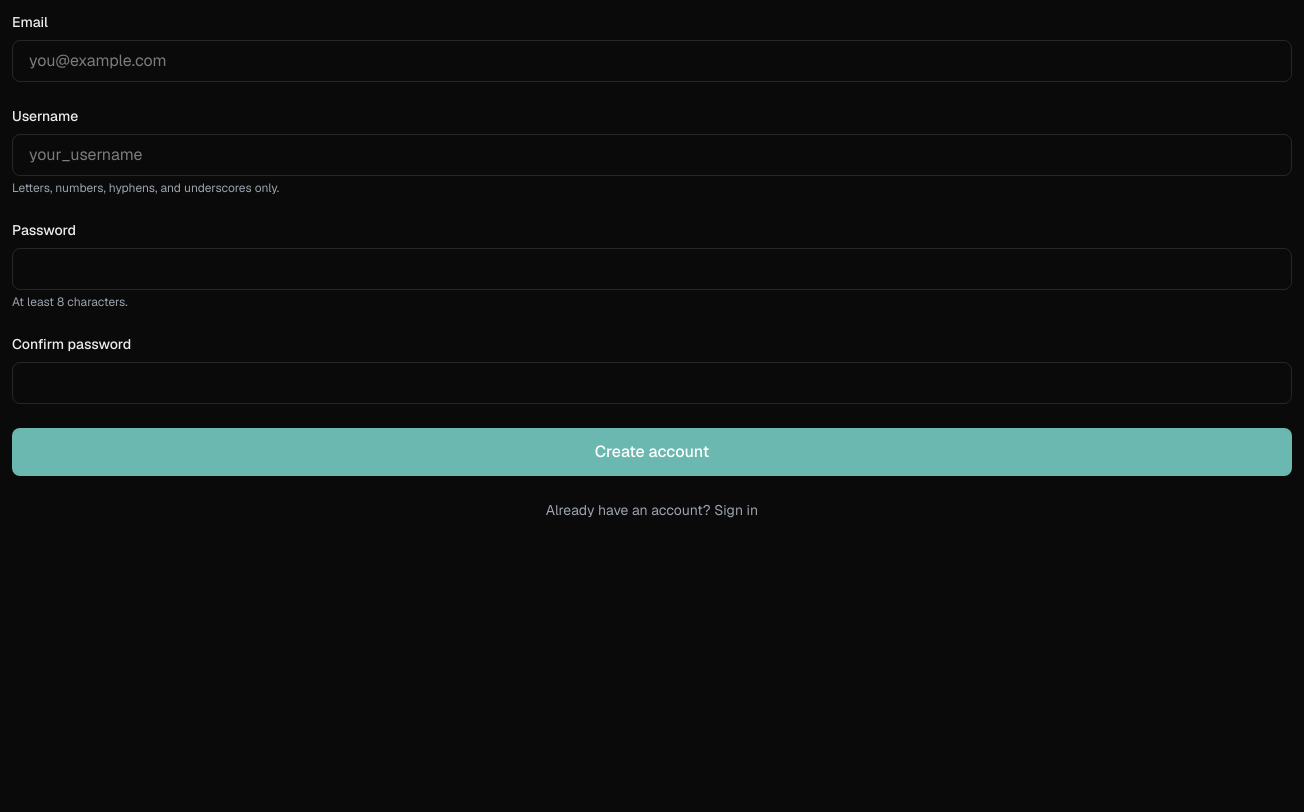
Test case: RegisterForm › shows error on failed registration
The image size is (1304, 812).
Type "test@example.com" into the field labelled "Email". click: (652, 61)
box: [12, 40, 1292, 82]
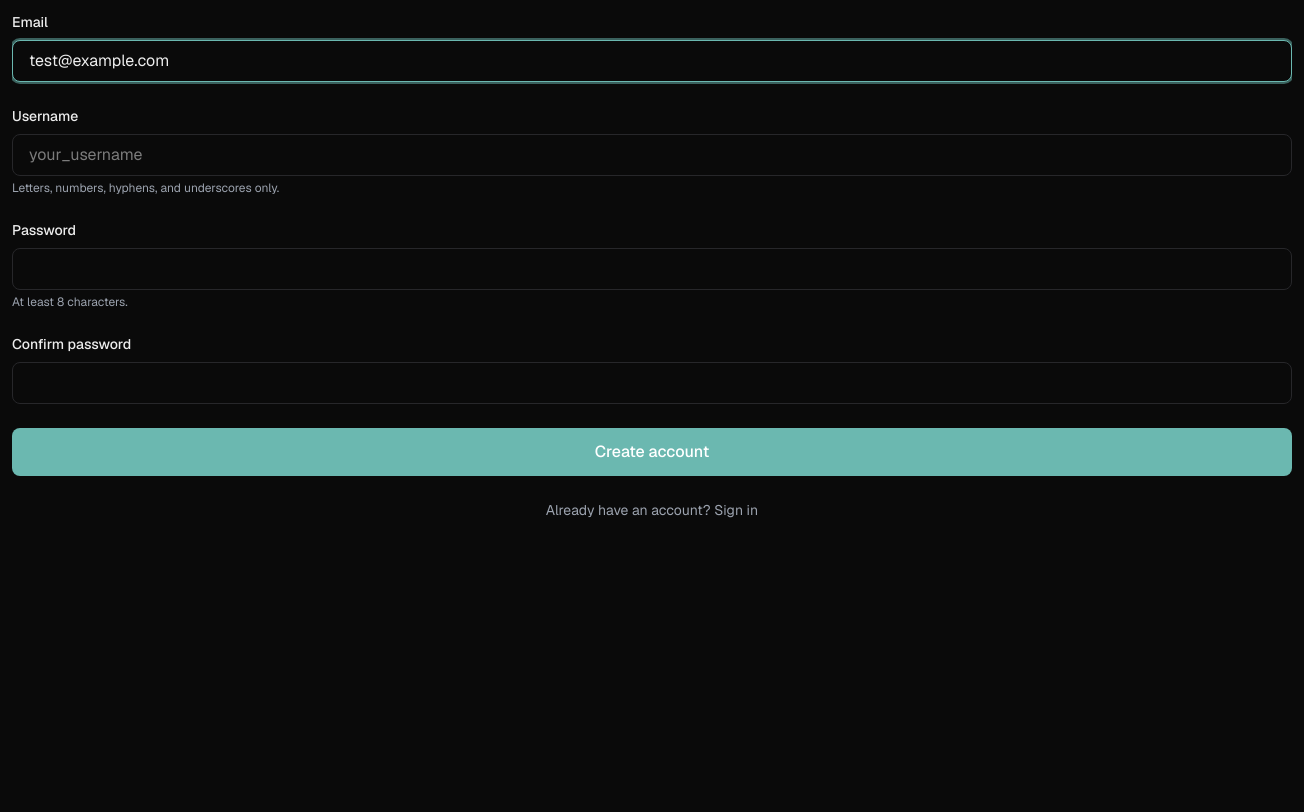
Type "testuser" into the field labelled "Username". click: (652, 155)
box: [12, 134, 1292, 176]
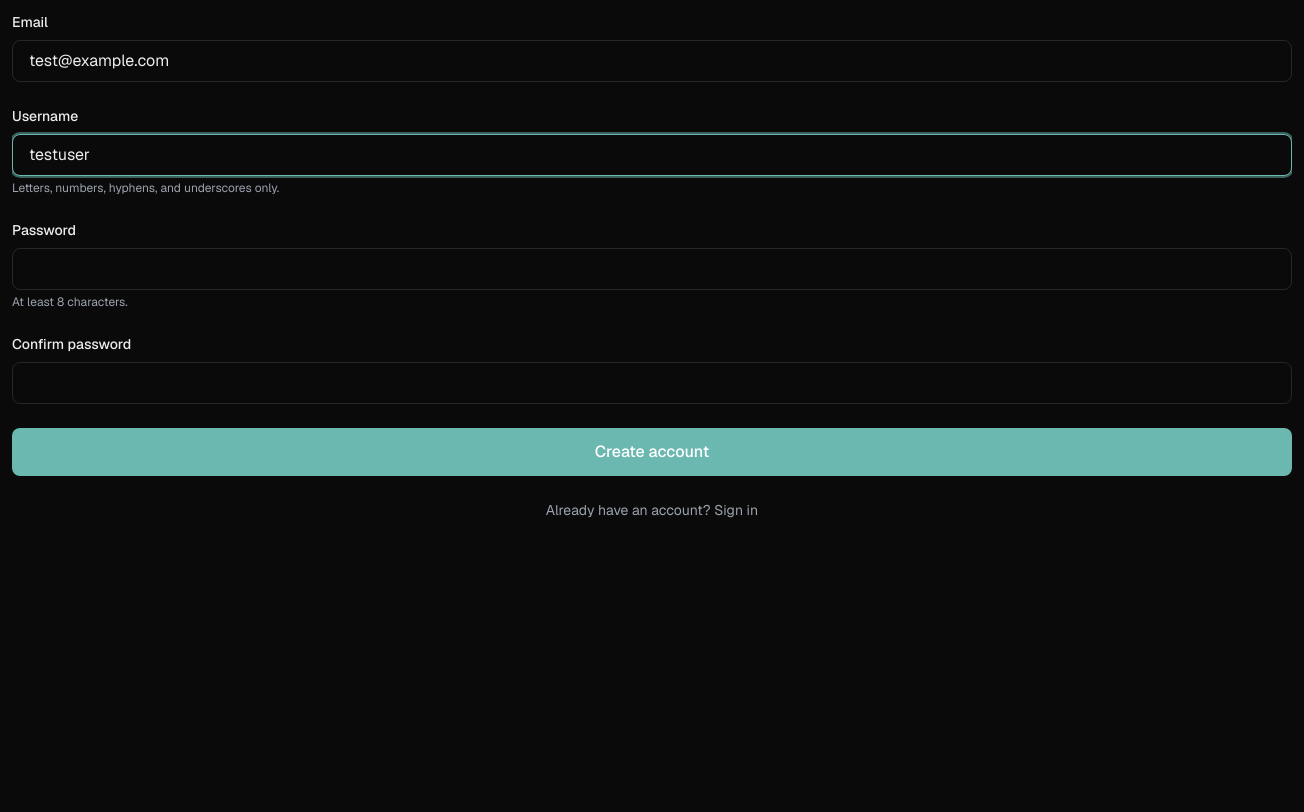
Type "Strong1234!" into the password field labelled "Password". click: (652, 269)
box: [12, 248, 1292, 290]
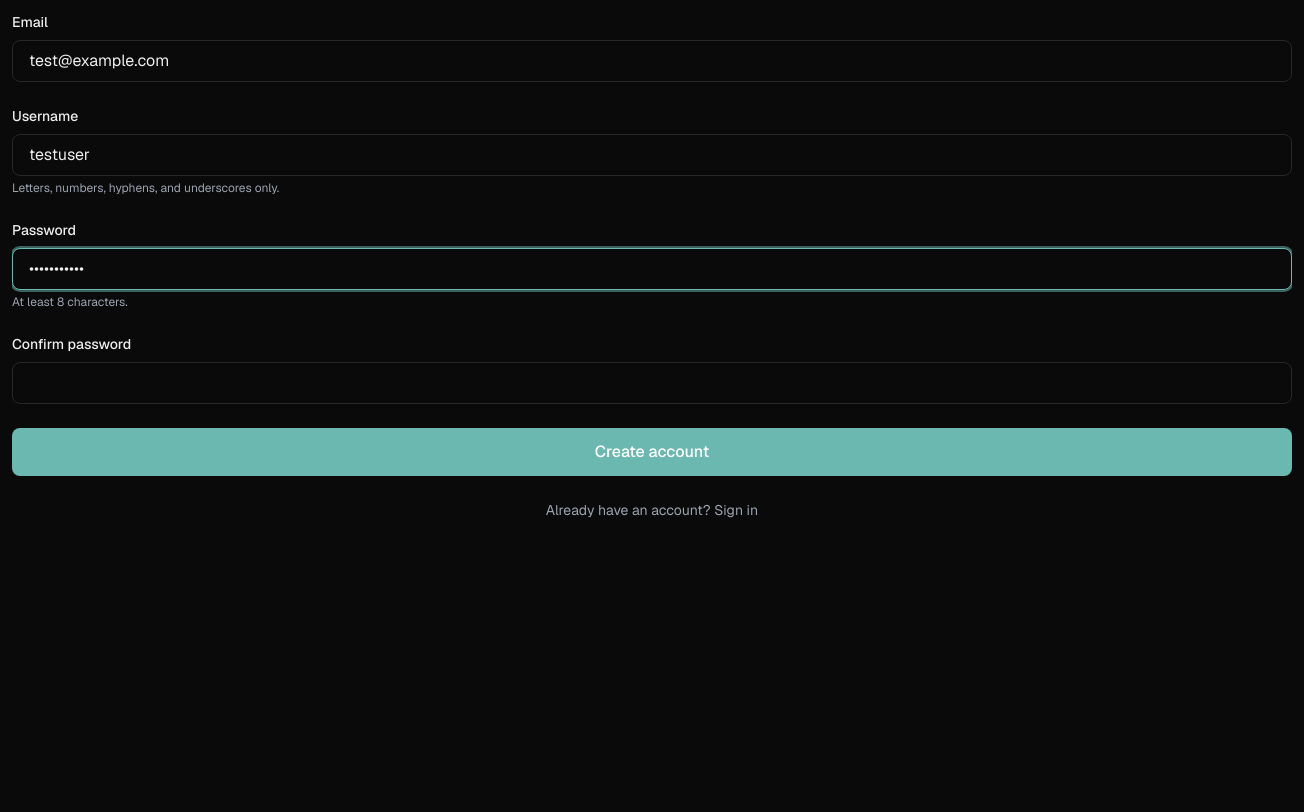
Type "Strong1234!" into the password field labelled "Confirm password". click: (652, 383)
box: [12, 362, 1292, 404]
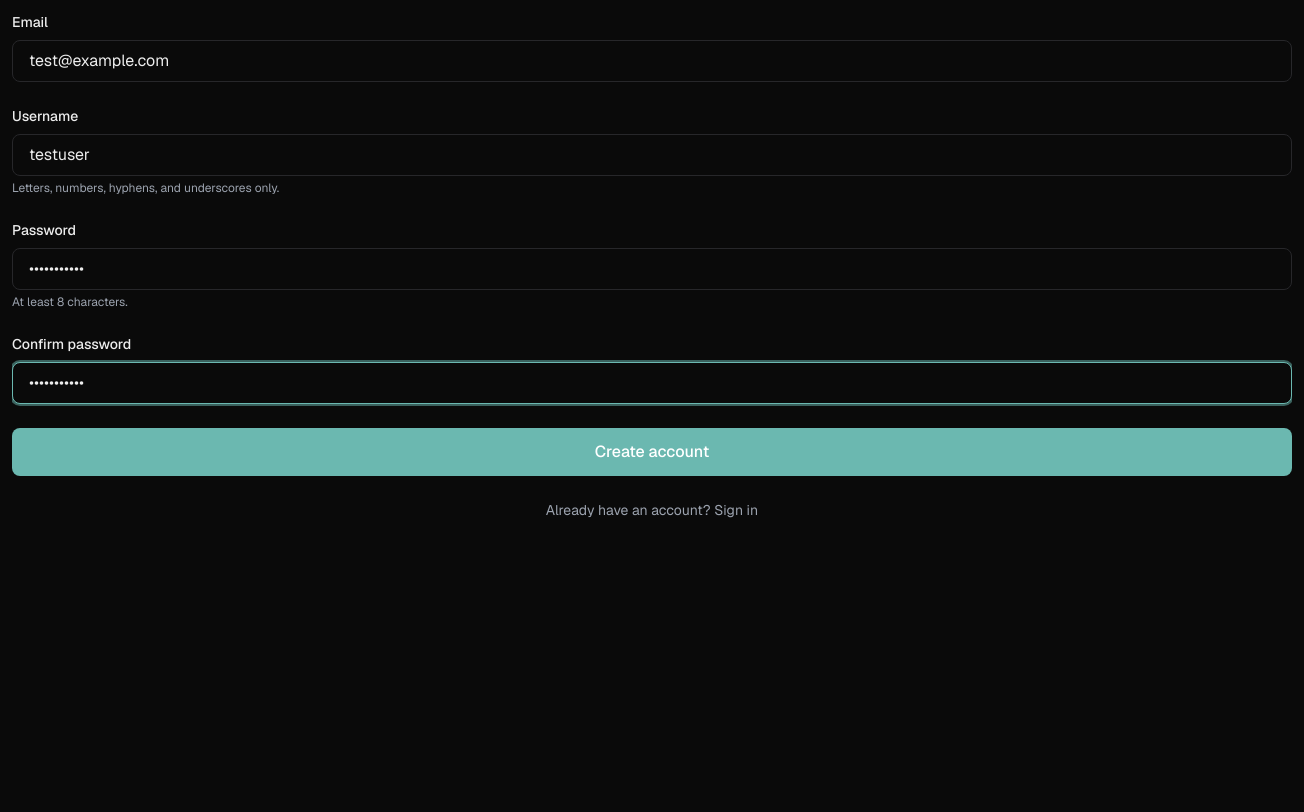
Click the button "Create account". click: (652, 452)
box: [12, 428, 1292, 476]
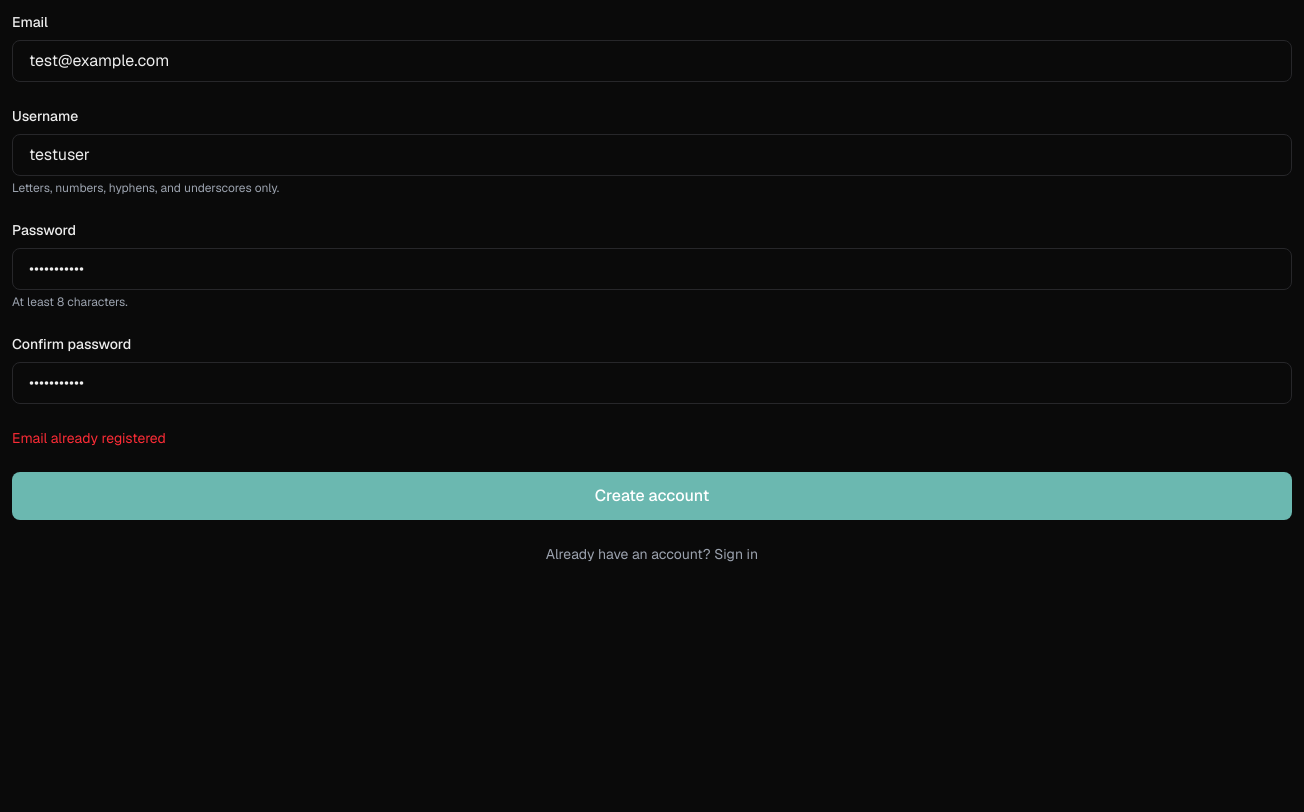
Now the text "Email already registered" is shown, box [12, 429, 166, 447]
